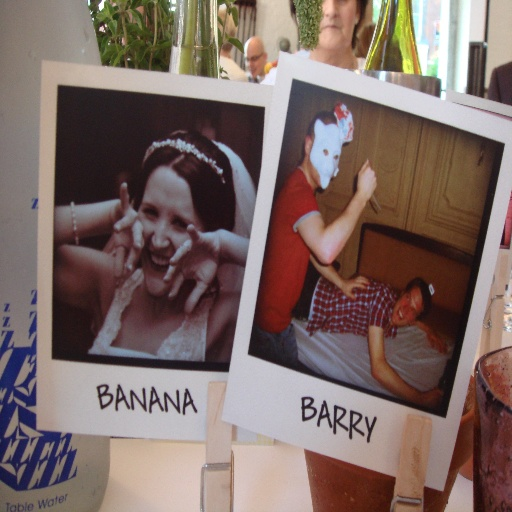hand: (161, 222, 223, 318), (108, 180, 145, 279), (339, 275, 371, 301), (357, 162, 377, 197), (428, 328, 448, 355), (421, 388, 444, 411)
